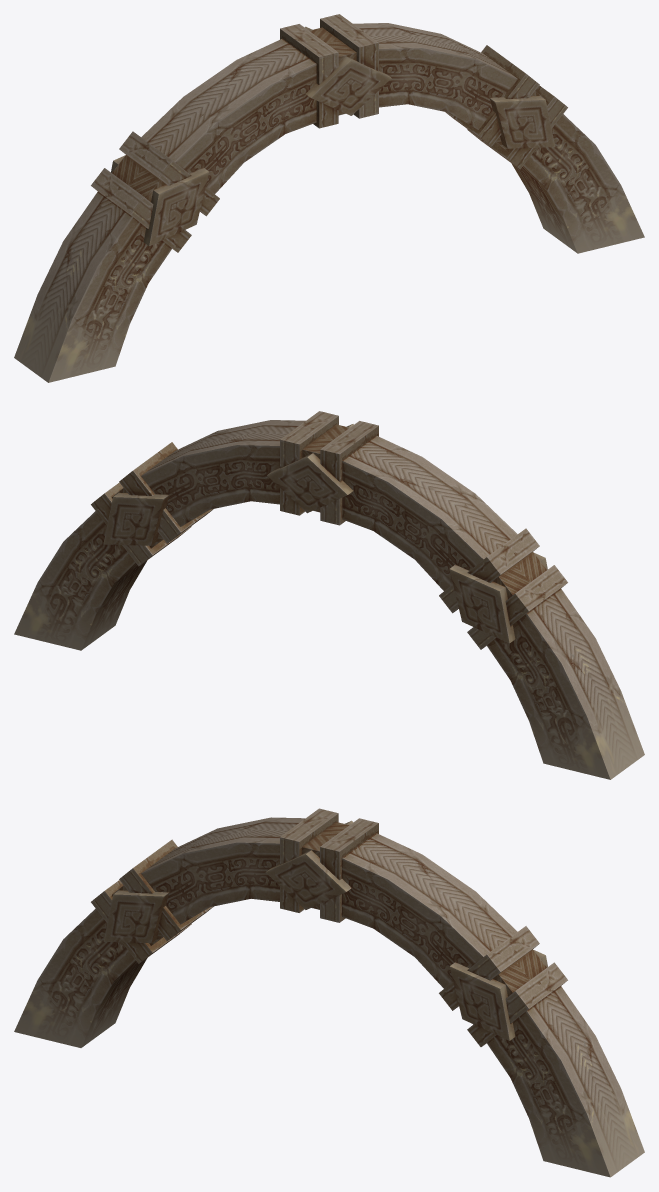
Rendered from Scene_Build_TaZiShaMo_GongMen_1.FBX.
3 renders of one model, top to bottom at view 1: azimuth 30°, elevation 25°; view 2: azimuth 150°, elevation 25°; view 3: azimuth 330°, elevation 25°, orthographic.
Visible parts, largest first — view 1: Scene_Build_TaZiShaMo_GongMen_1; view 2: Scene_Build_TaZiShaMo_GongMen_1; view 3: Scene_Build_TaZiShaMo_GongMen_1.
Part boxes in pixels (x1,y1,x2,y2): Scene_Build_TaZiShaMo_GongMen_1: [14, 14, 644, 382]; Scene_Build_TaZiShaMo_GongMen_1: [14, 411, 644, 779]; Scene_Build_TaZiShaMo_GongMen_1: [14, 808, 644, 1177].
Size of the model in its own units: 6503 by 2729 by 865.
Materials: 1 (1 with a texture image).
